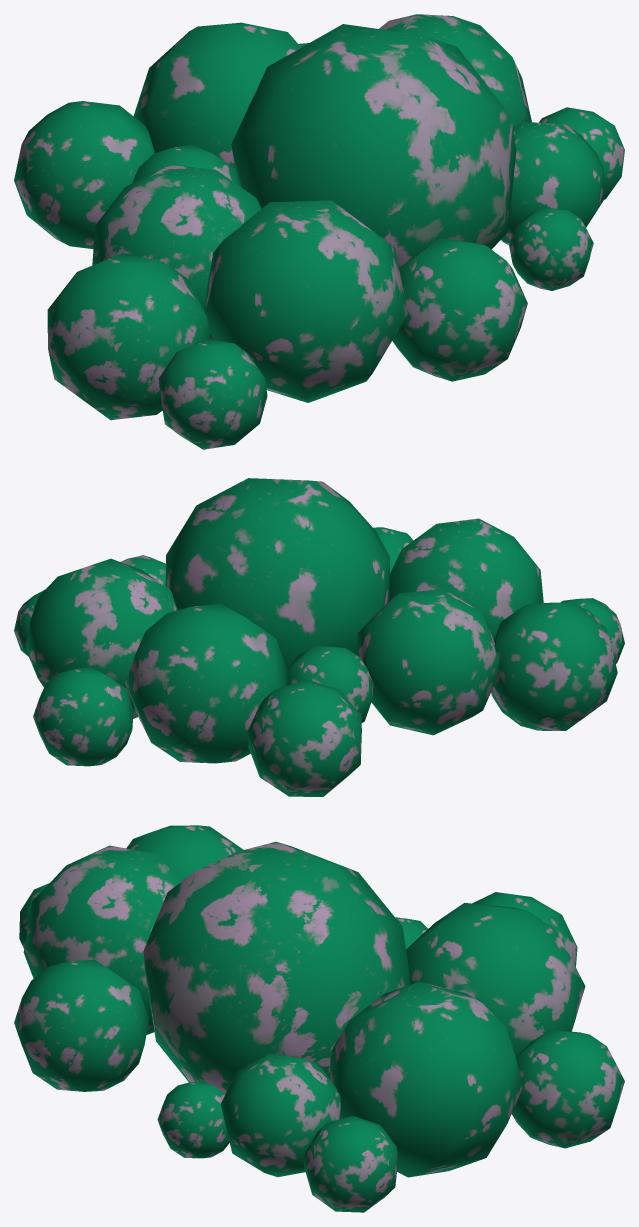
File: elongatedSeaPearl01.fbx
The picture shows the model from 3 angles, top to bottom: view 1: azimuth 30°, elevation 25°; view 2: azimuth 150°, elevation 25°; view 3: azimuth 270°, elevation 25°; orthographic projection. The views are drawn at different scales.
Visible parts, largest first — view 1: elongatedSeaPearl01; view 2: elongatedSeaPearl01; view 3: elongatedSeaPearl01.
Boxes of the visible parts, <box> form: elongatedSeaPearl01: <box>14,14,624,449</box>; elongatedSeaPearl01: <box>14,478,624,796</box>; elongatedSeaPearl01: <box>14,825,624,1212</box>.
Size of the model in its own units: 0.4312 by 0.1669 by 0.3714.
1 material, 1 textured.
